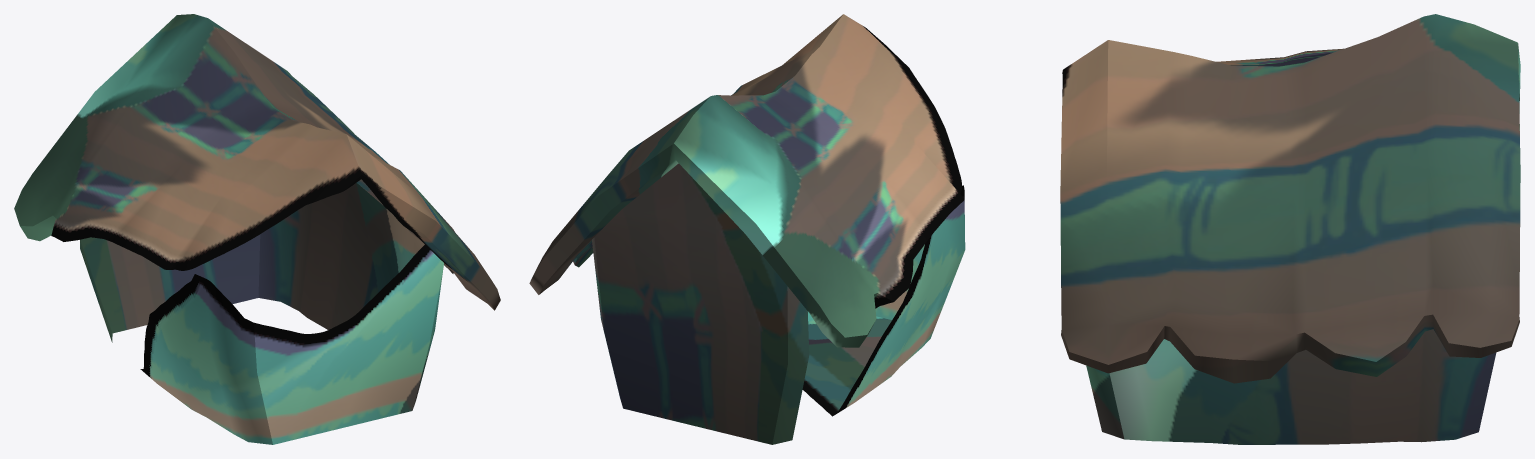
The model's file is beach-hut@Special.fbx.
3 views of the same model, side by side, from view 1: azimuth 30°, elevation 25°; view 2: azimuth 150°, elevation 25°; view 3: azimuth 270°, elevation 25° (orthographic). The views are drawn at different scales.
Parts seen in each view (by area): view 1: beach_hut; view 2: beach_hut; view 3: beach_hut.
Boxes of the visible parts, <box> form: beach_hut: <box>14,14,500,444</box>; beach_hut: <box>529,14,965,444</box>; beach_hut: <box>1060,14,1520,444</box>.
Bounding box in the file's own units: 243 × 207 × 229.
